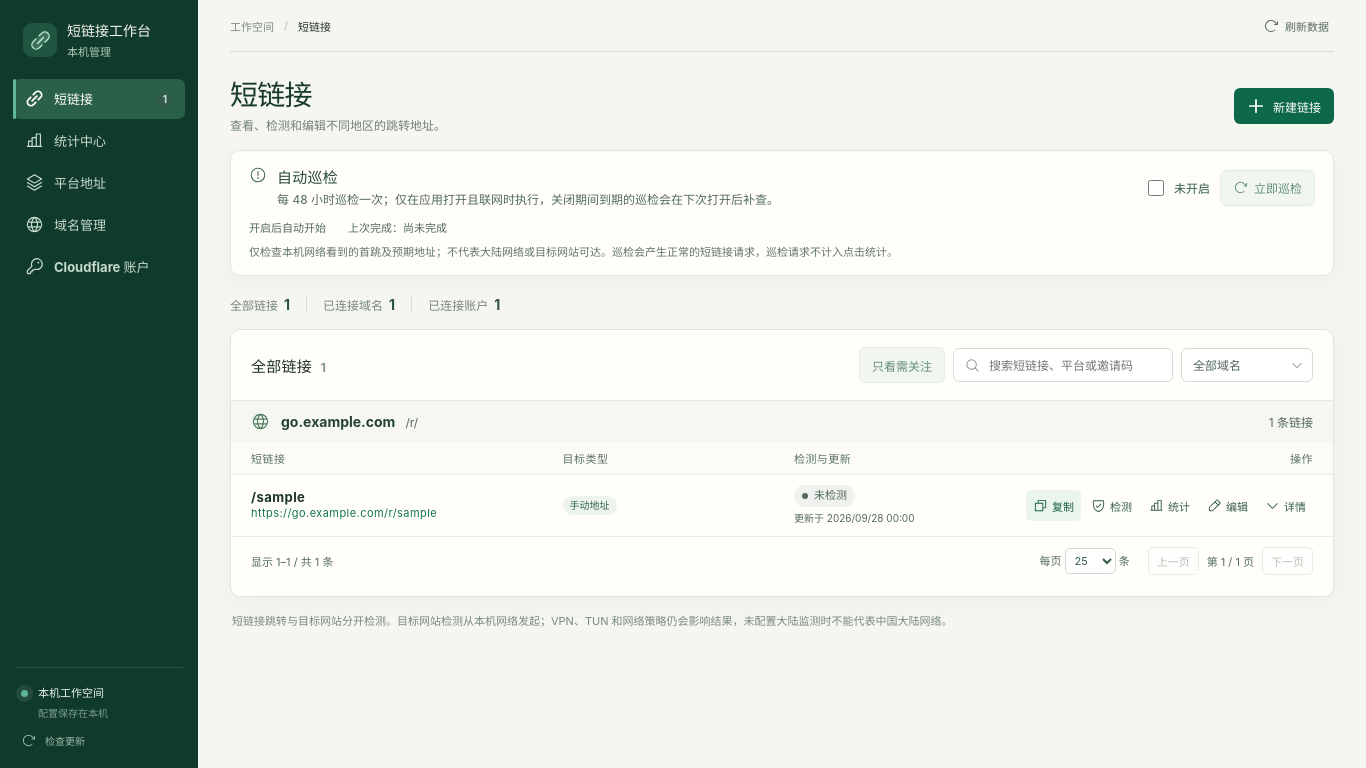
explicit VPN retry › explicitly retries both checks with public DNS when route checking also failed
Expected: the text "/sample" is shown, [251,489,305,505]
Click the button with aria-label "检测 sample" at [1112, 506], box [1084,490,1139,521]
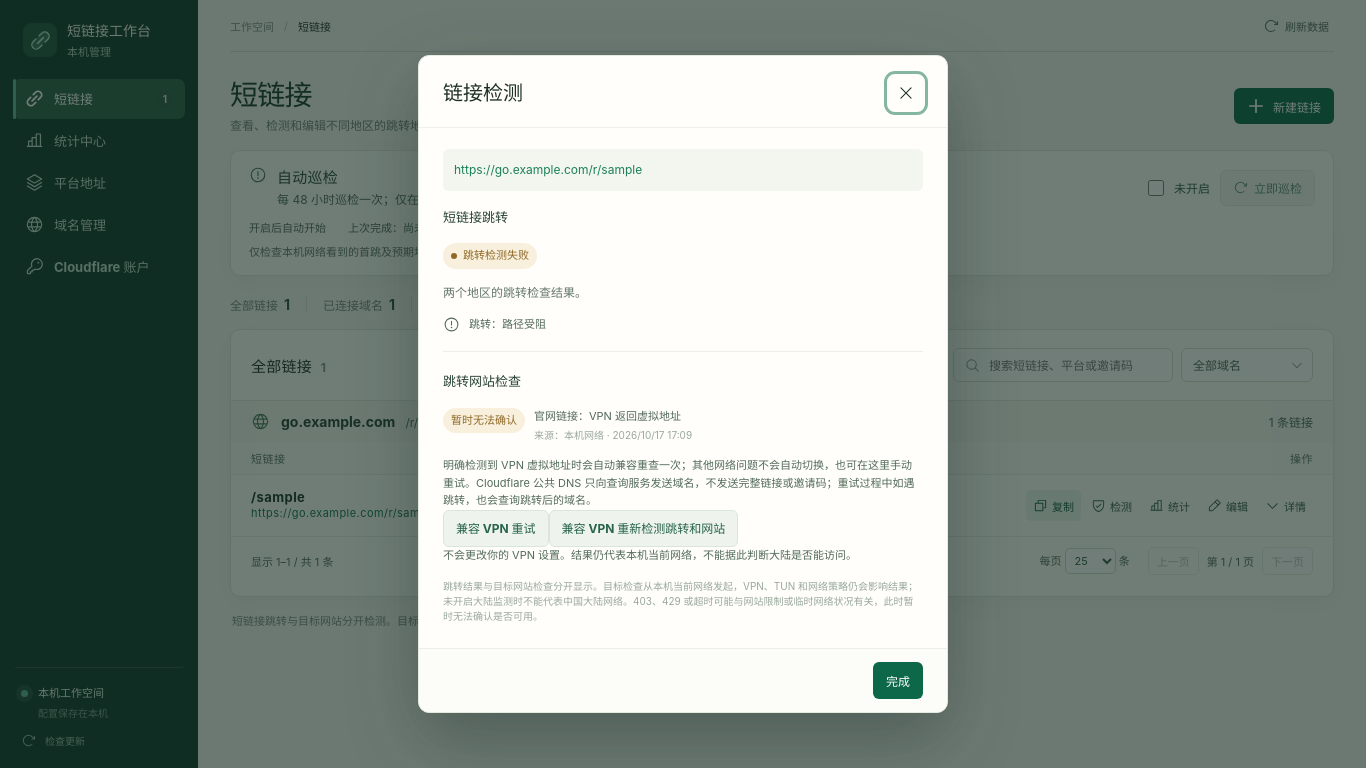
Click the button "兼容 VPN 重新检测跳转和网站" at [643, 528], box [549,510,738,547]
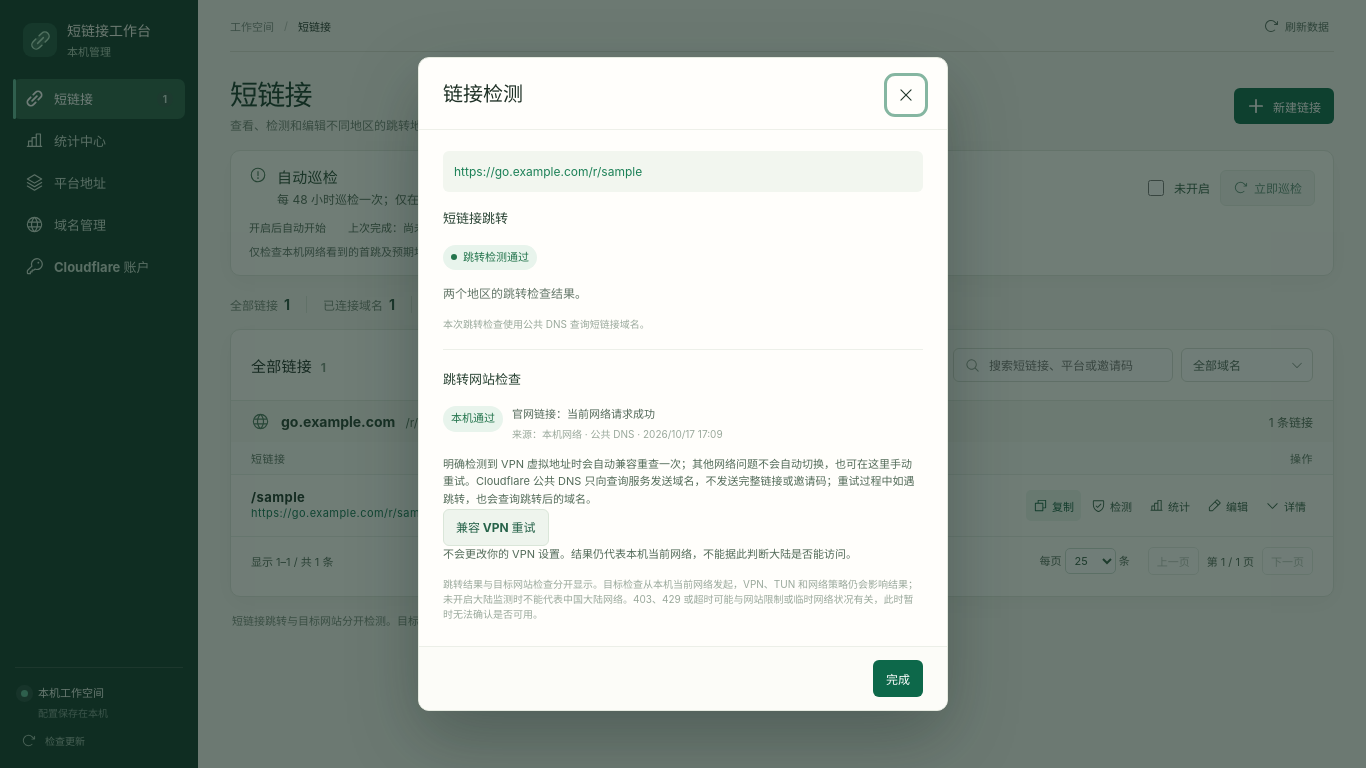
Expected: the text "跳转检测通过" is shown, [443,245,537,270]
Expected: the text "本次跳转检查使用公共 DNS 查询短链接域名。" is shown, [443,318,650,330]
